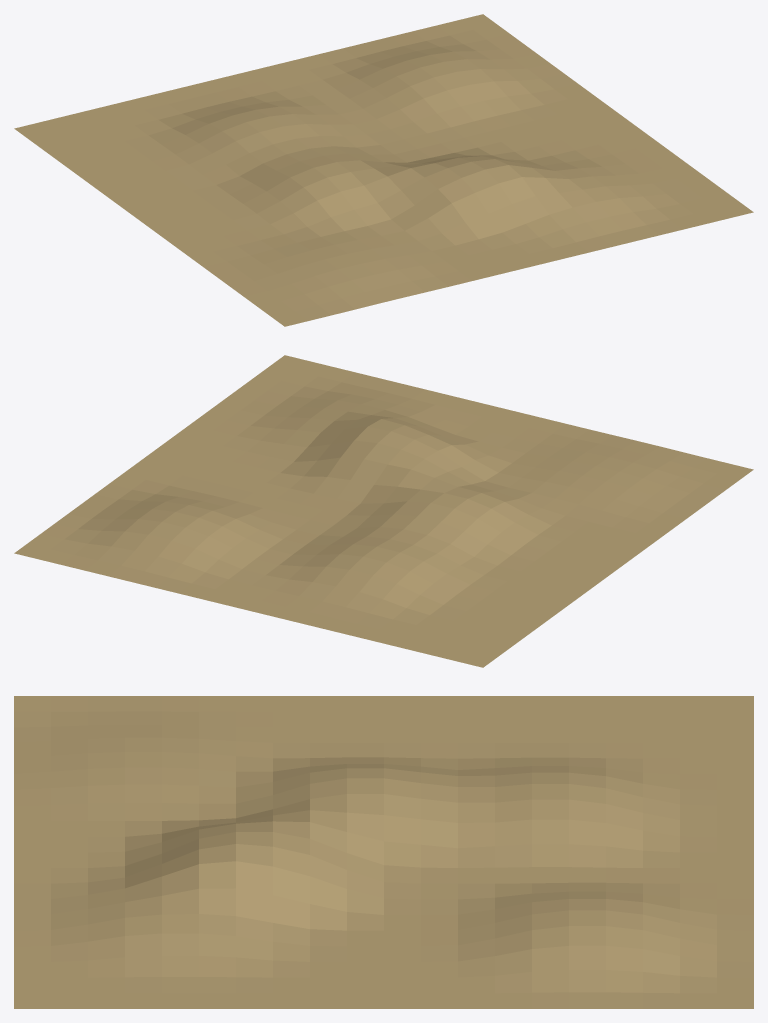
The model's file is Desert Doon.fbx.
The picture shows the model from 3 angles, top to bottom: view 1: azimuth 30°, elevation 25°; view 2: azimuth 150°, elevation 25°; view 3: azimuth 270°, elevation 25°; orthographic projection. The views are drawn at different scales.
Parts seen in each view (by area): view 1: Desert Doons; view 2: Desert Doons; view 3: Desert Doons.
Boxes of the visible parts, <box> form: Desert Doons: <box>14,14,753,326</box>; Desert Doons: <box>14,355,753,667</box>; Desert Doons: <box>14,696,753,1008</box>.
Bounding box in the file's own units: 2000 × 119 × 2000.
